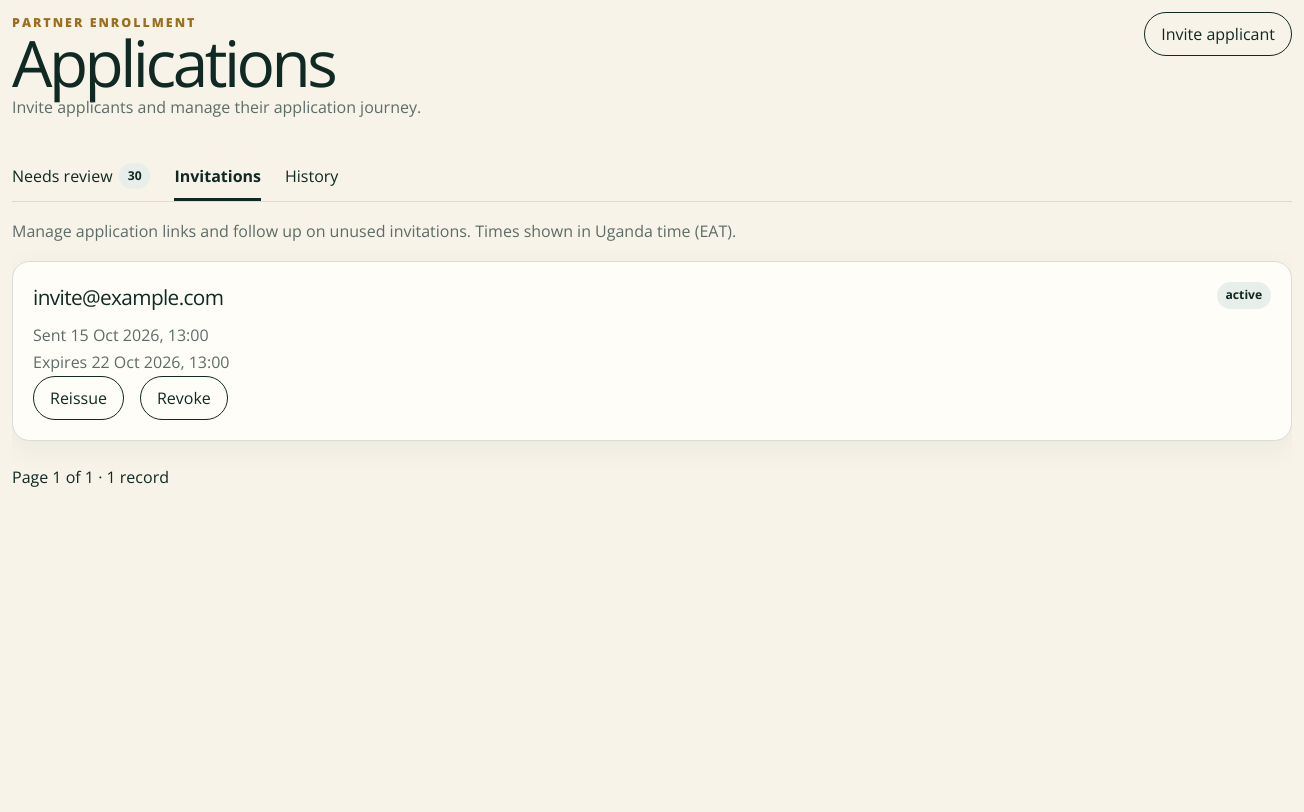
it: combined applications workspace › submits revoke and displays invitation feedback
The width and height of the screenshot is (1304, 812).
Click the button "Revoke" at (184, 398), box x1=140 y1=376 x2=228 y2=420
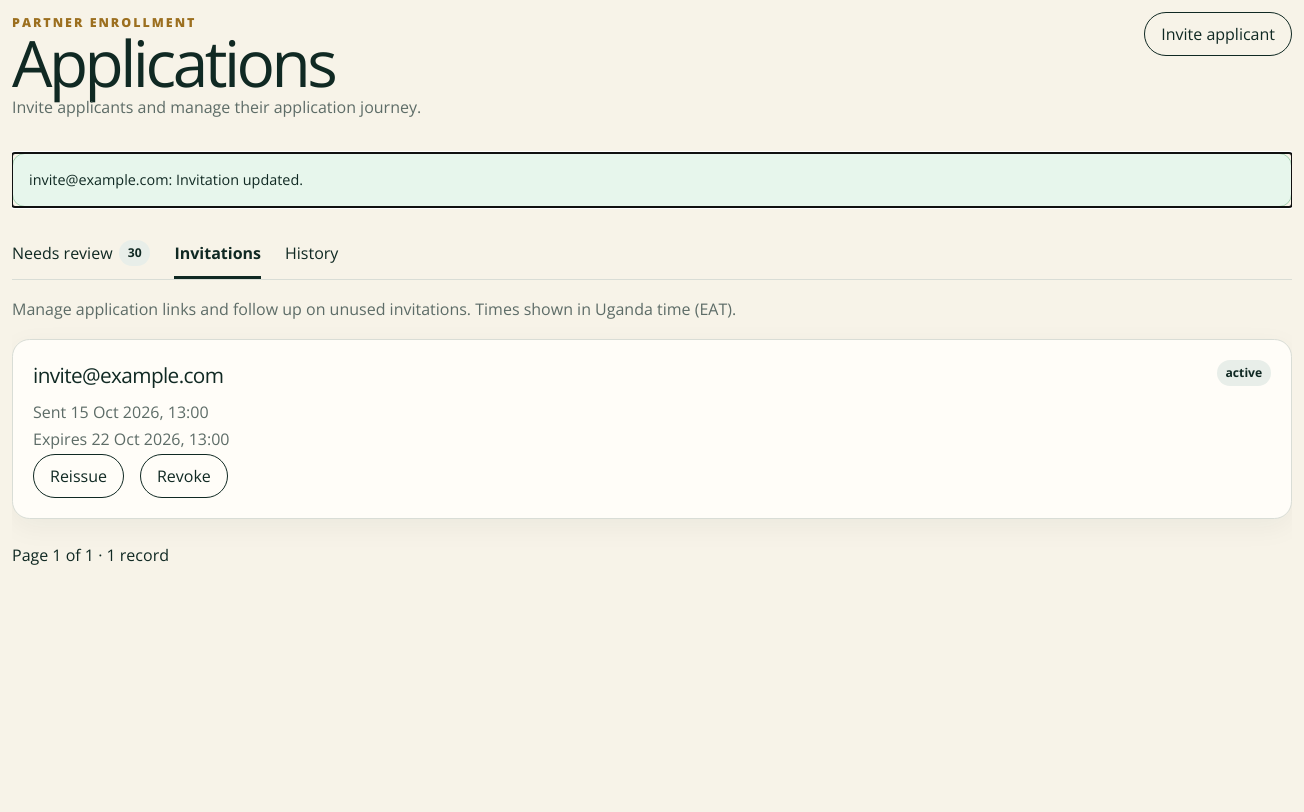
Expected: the message reads "invite@example.com: Invitation updated.", x1=29 y1=170 x2=303 y2=189
